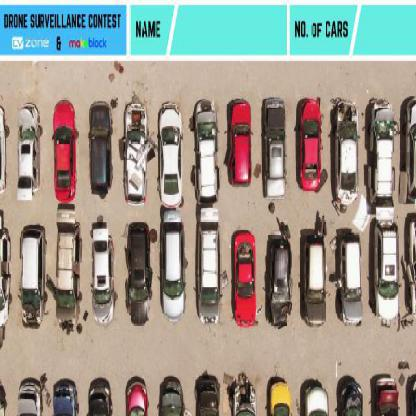car: (195, 210, 222, 327), (122, 101, 150, 207), (55, 215, 81, 327), (334, 100, 360, 209), (374, 211, 399, 322), (193, 98, 219, 202), (368, 99, 395, 199), (160, 213, 185, 321), (19, 226, 45, 329), (126, 220, 151, 325), (296, 99, 323, 193), (262, 98, 287, 199), (92, 219, 115, 328), (53, 102, 78, 201), (159, 101, 182, 206), (18, 107, 43, 200), (303, 235, 328, 326), (267, 238, 292, 329), (90, 103, 113, 196), (235, 232, 257, 328), (229, 99, 252, 187), (343, 234, 364, 328), (403, 95, 415, 202), (157, 378, 187, 415), (195, 376, 223, 415), (15, 377, 43, 415), (373, 380, 402, 415), (87, 379, 113, 415), (52, 380, 78, 415), (339, 380, 364, 415), (303, 382, 329, 415), (268, 380, 292, 415), (231, 383, 257, 415), (126, 382, 150, 415)
